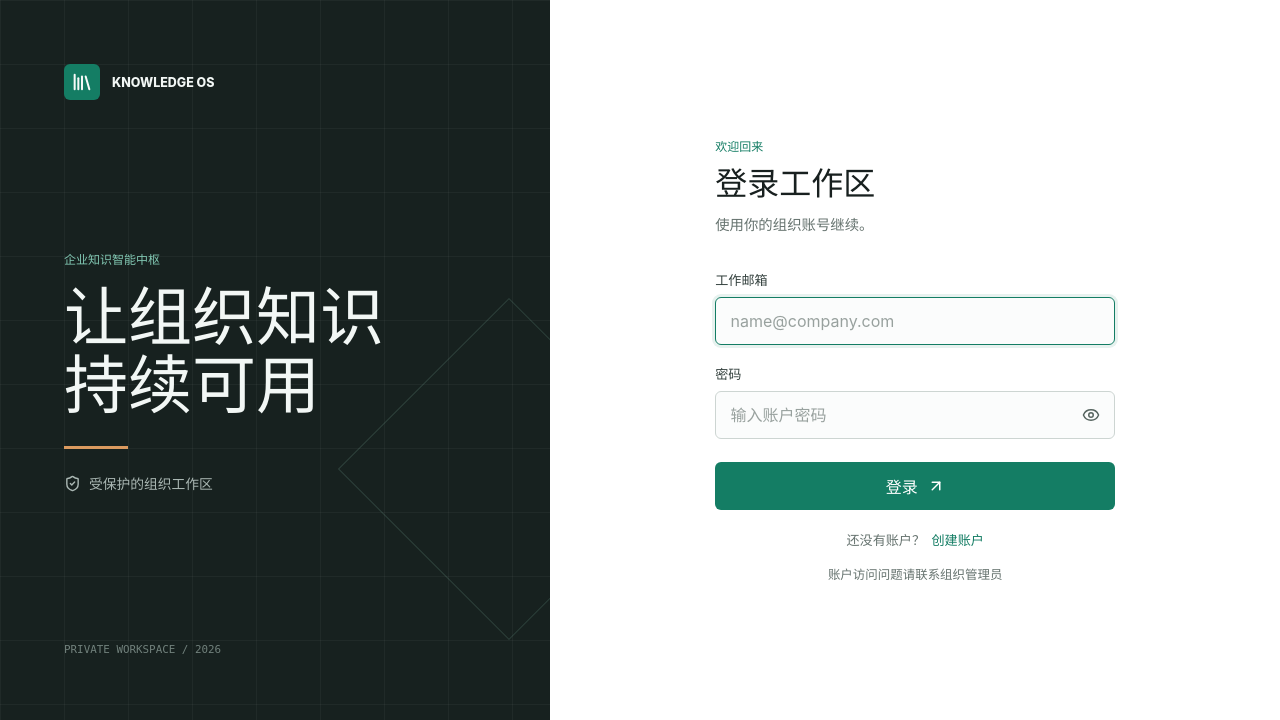
Test: authentication workspace › shows the server retry window when login is rate limited
In the field labelled "工作邮箱": x=915, y=320 [715,296,1115,344], type "analyst@example.com"
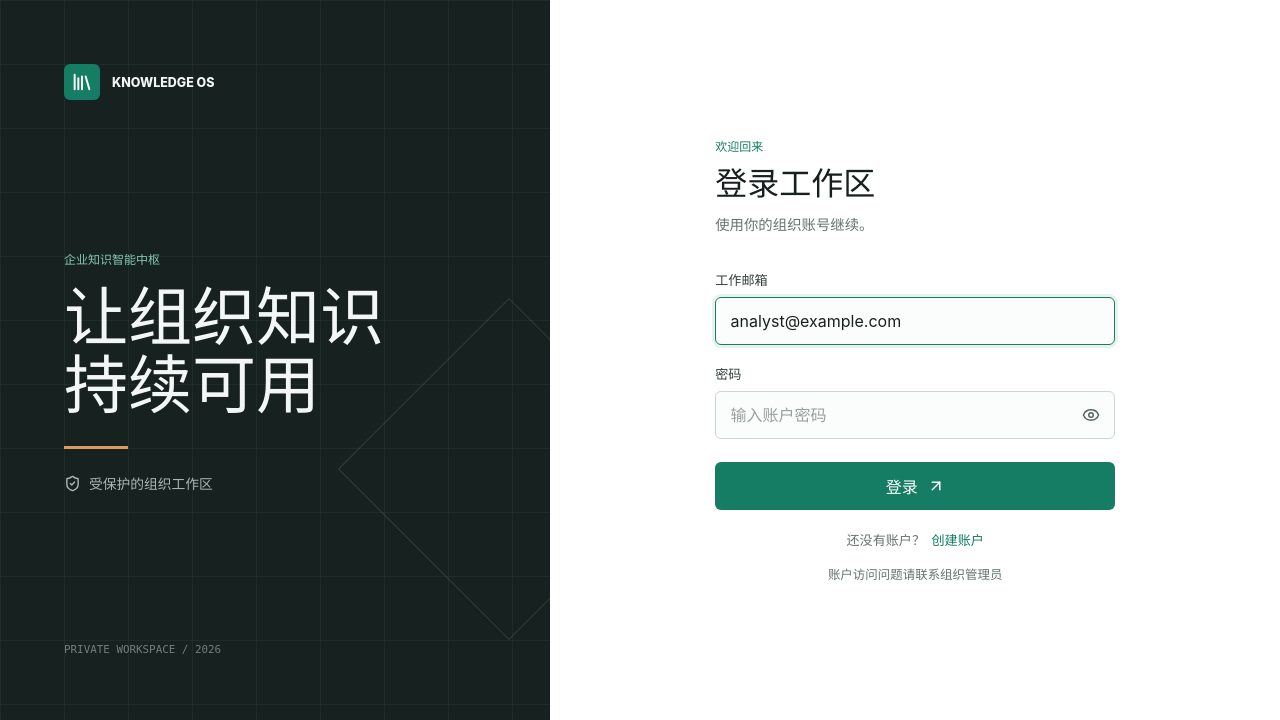
In the password field labelled "密码": x=915, y=415 [715,391,1115,439], type "incorrect-password"
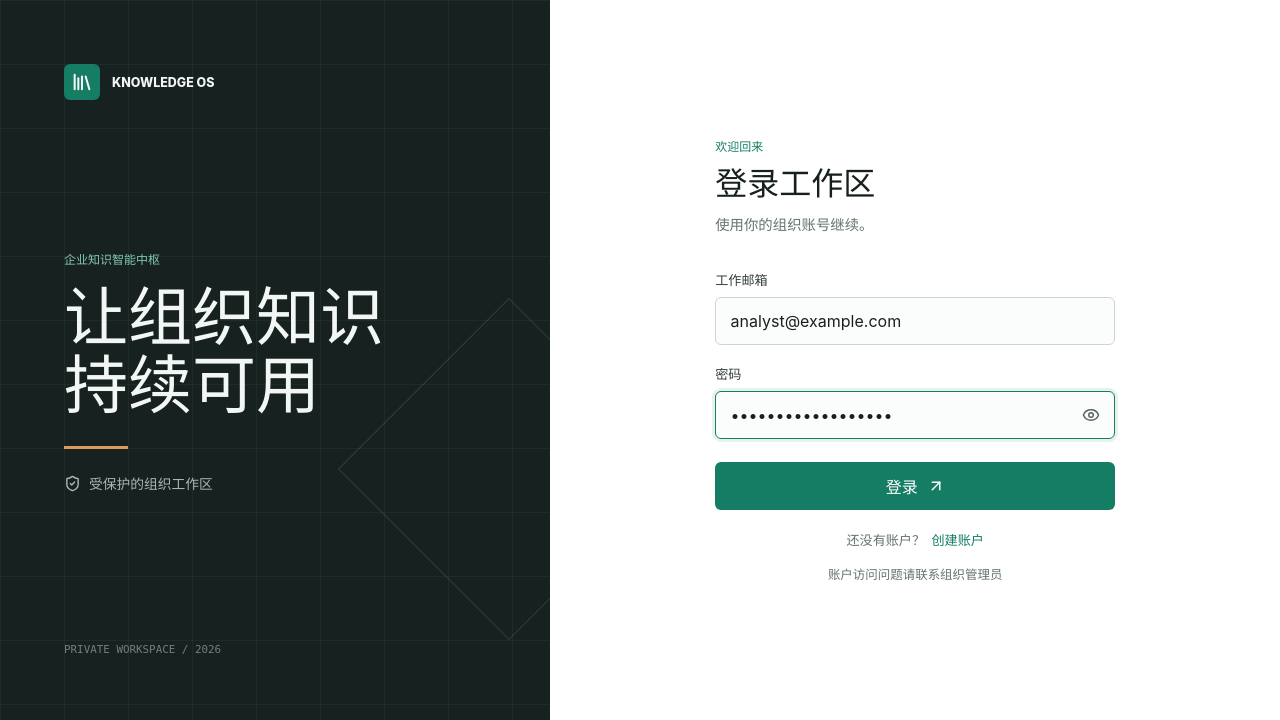
Click the button "登录": x=915, y=486 [715,462,1115,510]
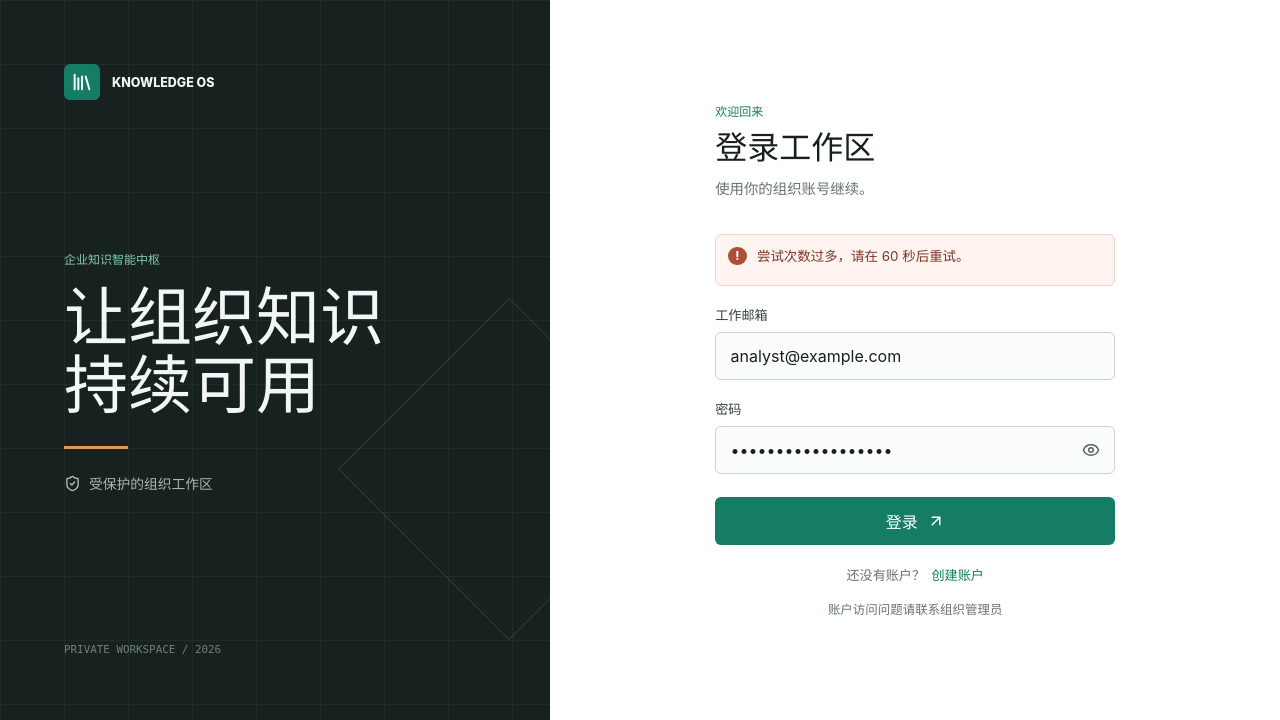
expect the message shows "尝试次数过多，请在 60 秒后重试。": met, box [757,248,970,264]
